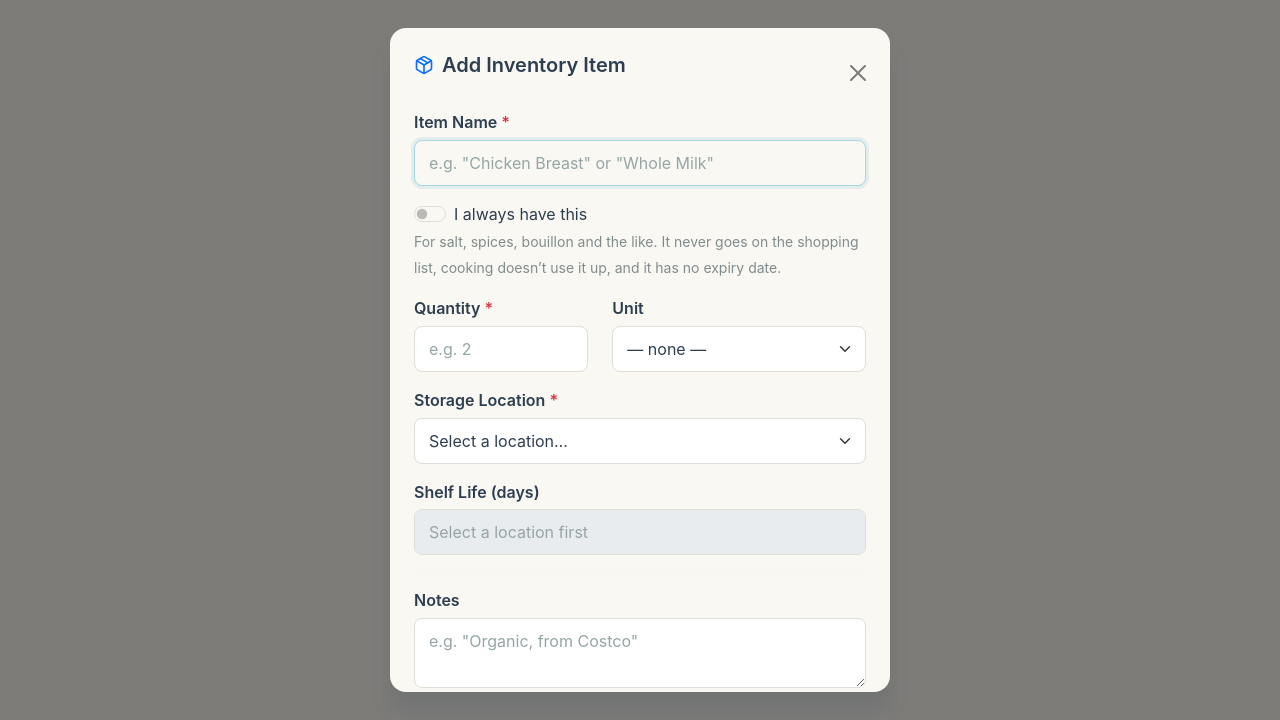
Scenario: AddItemModal shelf life › fills in the ingredient-and-location default once a location is picked
The width and height of the screenshot is (1280, 720).
Step 1. Type "Chicken Breast" into the field with placeholder "e.g. \"Chicken Breast\" or \"Whole Milk\"" → (640, 163), box [414, 140, 866, 186]
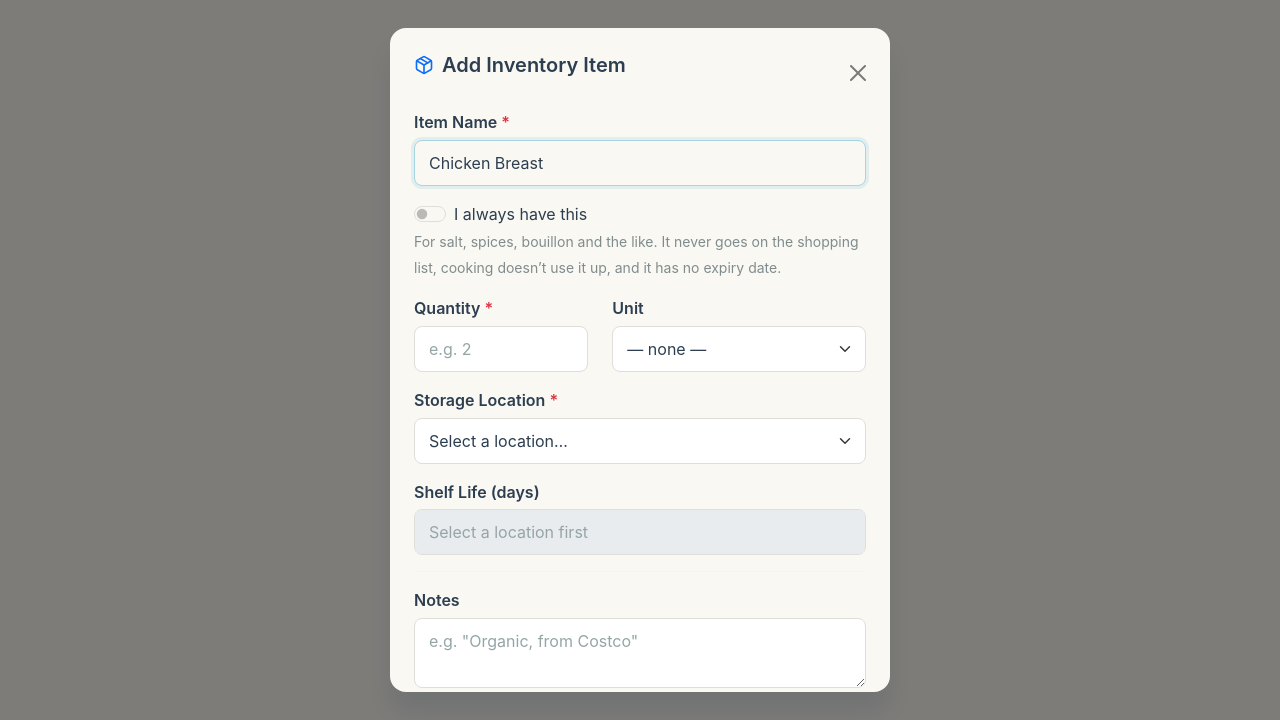
Step 2. Select "🧊 Main Fridge (fridge)" in the dropdown labelled "Storage Location *" → (640, 441), box [414, 418, 866, 464]
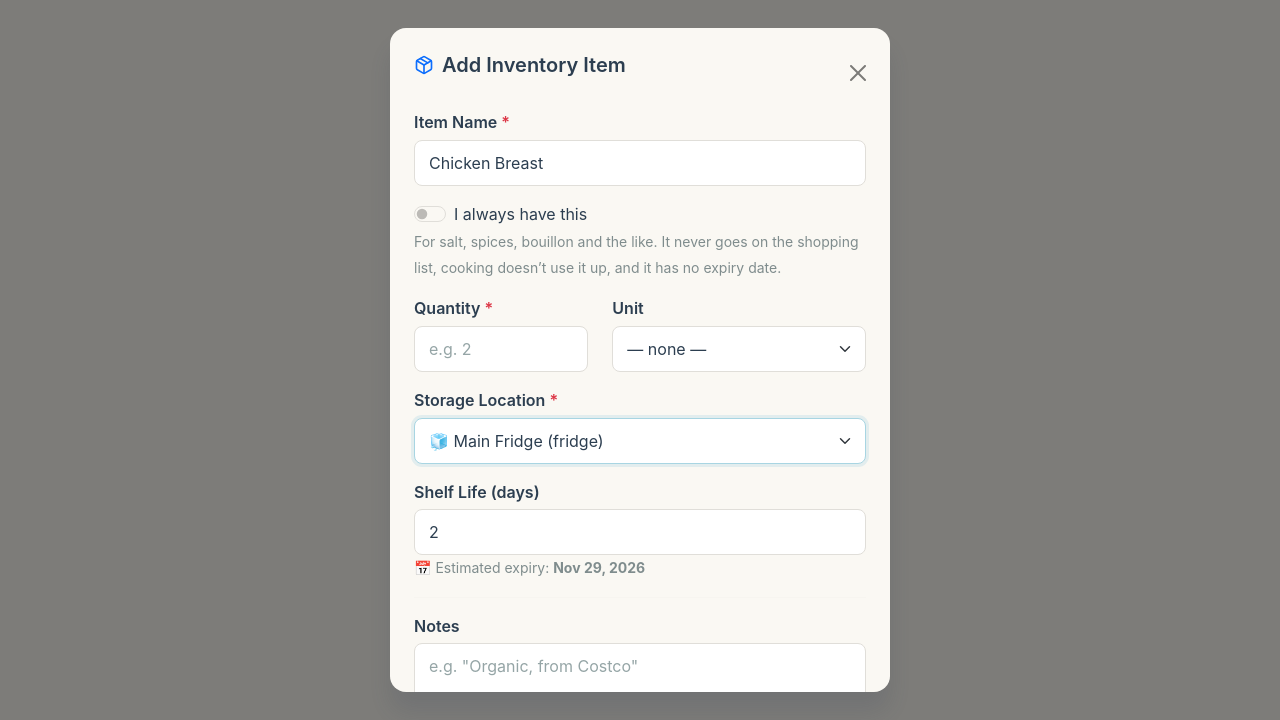
expect the number field labelled "Shelf Life (days)" holds "2": met, box [414, 509, 866, 555]
